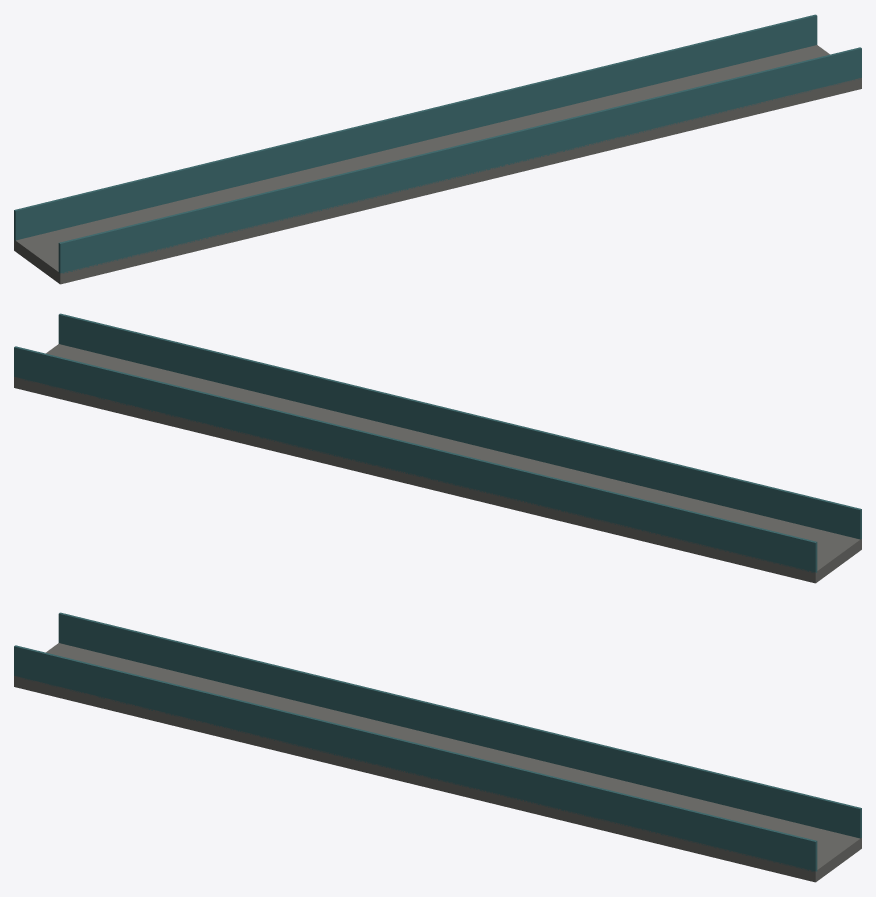
File: theme-rail-1.glb
3 renders of one model, top to bottom at view 1: azimuth 30°, elevation 25°; view 2: azimuth 150°, elevation 25°; view 3: azimuth 330°, elevation 25°, orthographic.
Visible parts, largest first — view 1: 01_#3f6f73_noshadow, 00_#6e6e6a; view 2: 01_#3f6f73_noshadow, 00_#6e6e6a; view 3: 01_#3f6f73_noshadow, 00_#6e6e6a.
Boxes of the visible parts, left/top/right/bottom form: 01_#3f6f73_noshadow: left=14, top=14, right=861, bottom=273; 00_#6e6e6a: left=14, top=45, right=861, bottom=284; 01_#3f6f73_noshadow: left=14, top=313, right=861, bottom=572; 00_#6e6e6a: left=14, top=344, right=861, bottom=583; 01_#3f6f73_noshadow: left=14, top=612, right=861, bottom=871; 00_#6e6e6a: left=14, top=643, right=861, bottom=882.
Bounding box in the file's own units: 30 × 1.45 × 3.
